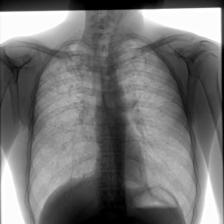tuberculosis: (24, 35, 200, 224)
